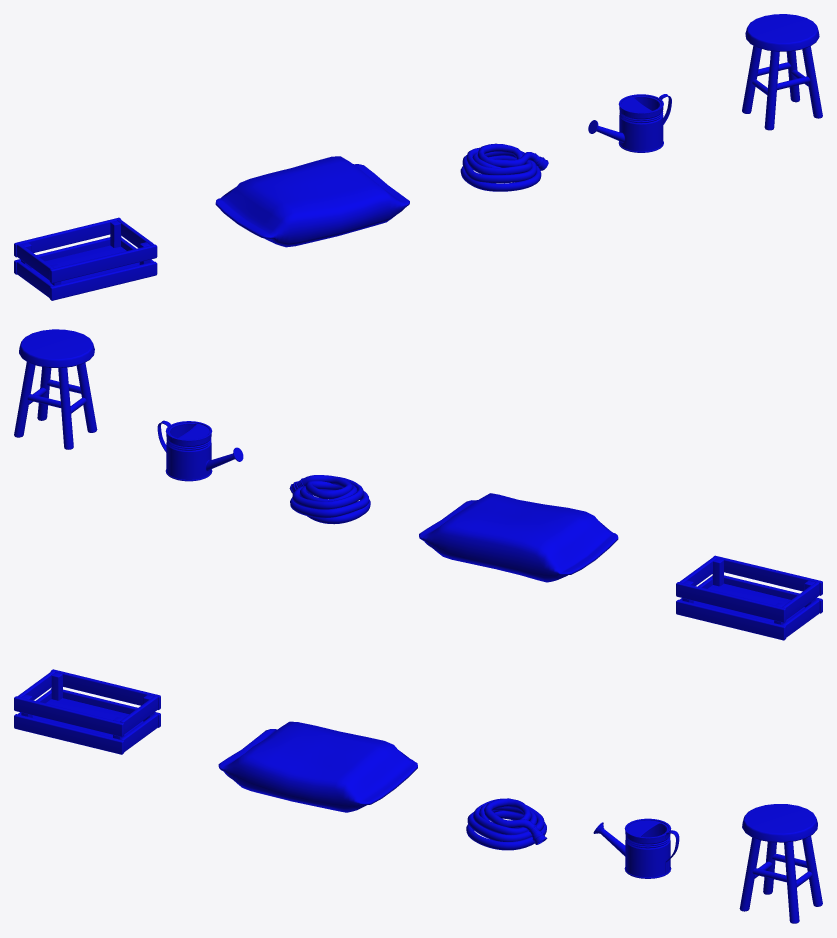
Rendered from garden_props_misc.fbx.
3 renders of one model, top to bottom at view 1: azimuth 30°, elevation 25°; view 2: azimuth 150°, elevation 25°; view 3: azimuth 330°, elevation 25°, orthographic. The views are drawn at different scales.
Visible parts, largest first — view 1: fertilizer, wooden_crate, stool, hose, watering_can; view 2: fertilizer, wooden_crate, stool, hose, watering_can; view 3: fertilizer, wooden_crate, stool, hose, watering_can.
Part boxes in pixels (box(x1,y1,x2,y2)): fertilizer: box(215, 156, 409, 247); wooden_crate: box(14, 217, 157, 300); stool: box(742, 14, 822, 130); hose: box(460, 143, 548, 191); watering_can: box(588, 94, 671, 152); fertilizer: box(419, 493, 618, 582); wooden_crate: box(676, 555, 822, 640); stool: box(14, 329, 97, 449); hose: box(289, 475, 370, 524); watering_can: box(157, 420, 243, 481); fertilizer: box(218, 721, 417, 812); wooden_crate: box(14, 669, 160, 754); stool: box(739, 804, 822, 923); hose: box(466, 798, 547, 850); watering_can: box(593, 818, 679, 878).
Bounding box in the file's own units: 530 × 57.63 × 65.84.
